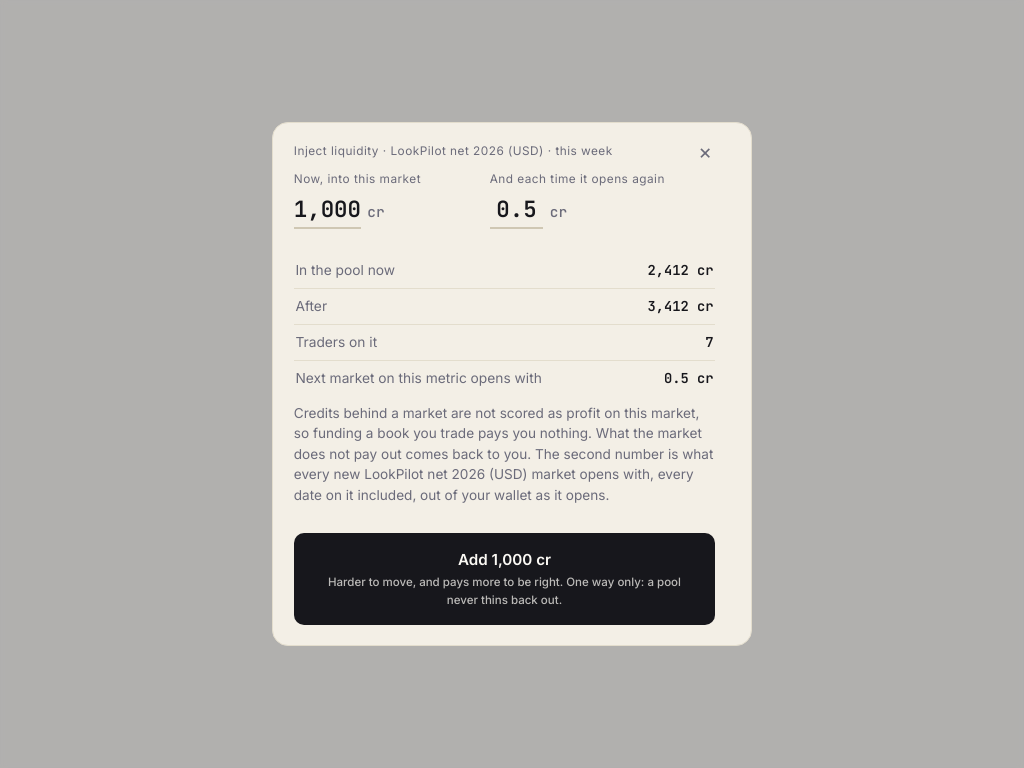
Scenario: dialog 3: a baseline market whose date has no row falls back to the metric-level number › the facts row says what the next market opens with, and what it was when that changes
Expected: the text "Next market on this metric opens with" is shown, x1=295 y1=368 x2=542 y2=389
Expected: the text "was 0.5" is not shown
Replace the text in the field named "Credits every new market on this metric opens with" with "500" at (516, 211), box x1=490 y1=193 x2=543 y2=229
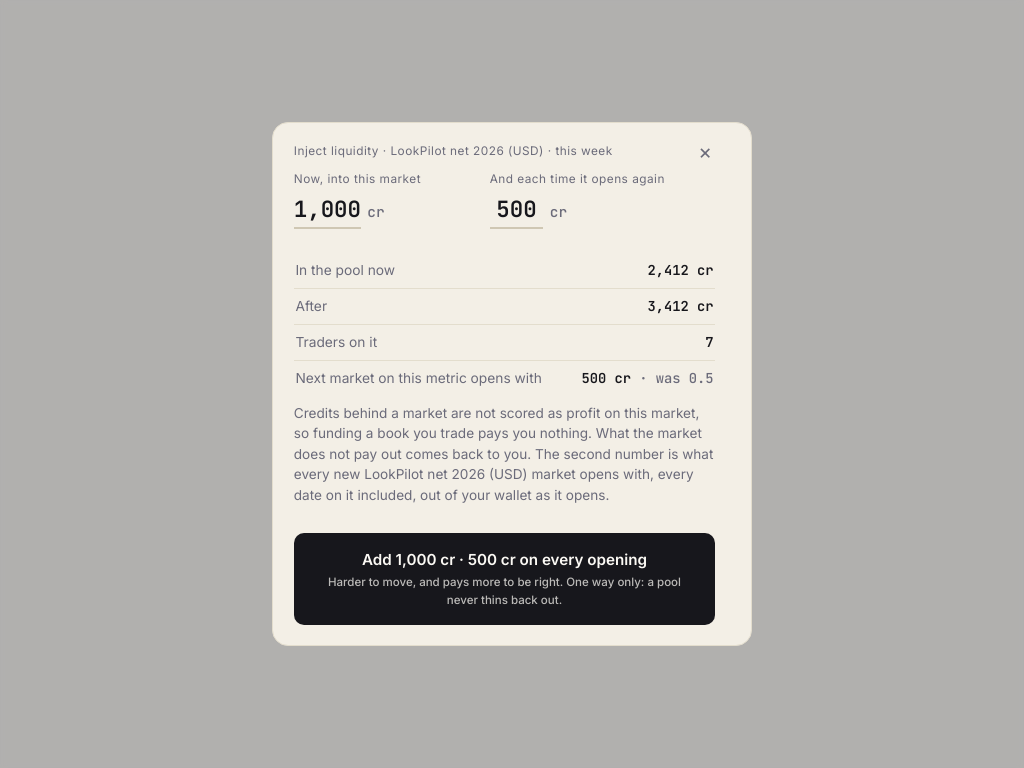
Expected: the text "500 cr" is shown, x1=582 y1=368 x2=714 y2=389
Expected: the text "· was 0.5" is shown, x1=631 y1=369 x2=714 y2=387
